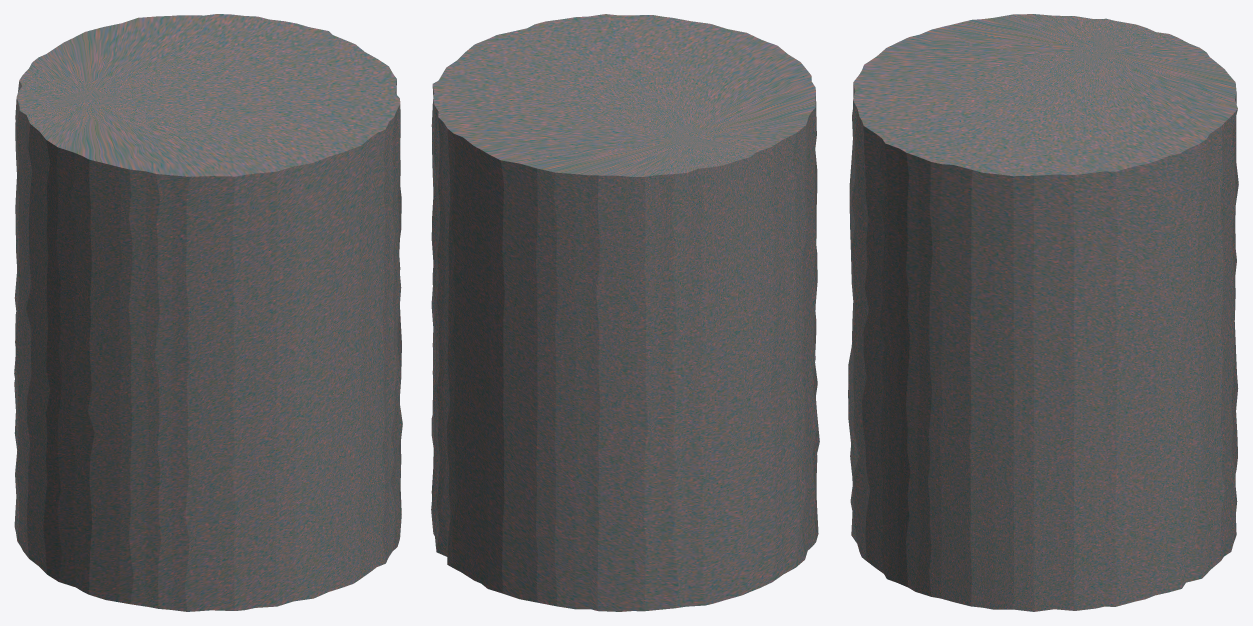
Rendered from barrel_28.dae.
3 views of the same model, side by side, from view 1: azimuth 30°, elevation 25°; view 2: azimuth 150°, elevation 25°; view 3: azimuth 270°, elevation 25° (orthographic).
Visible parts, largest first — view 1: Cylinder; view 2: Cylinder; view 3: Cylinder.
Boxes of the visible parts, x1=… form: Cylinder: x1=14, y1=14, x2=402, y2=611; Cylinder: x1=431, y1=14, x2=819, y2=611; Cylinder: x1=848, y1=14, x2=1238, y2=611.
Size of the model in its own units: 0.8202 by 0.8137 by 1.
1 material, 1 textured.
